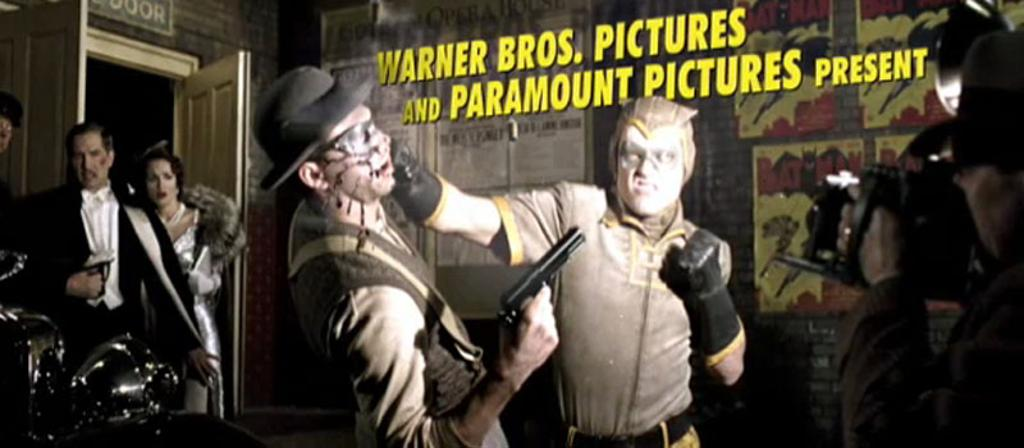face: (935, 149, 1014, 261), (322, 115, 395, 195), (617, 127, 682, 215), (71, 135, 106, 185), (146, 162, 175, 204)
